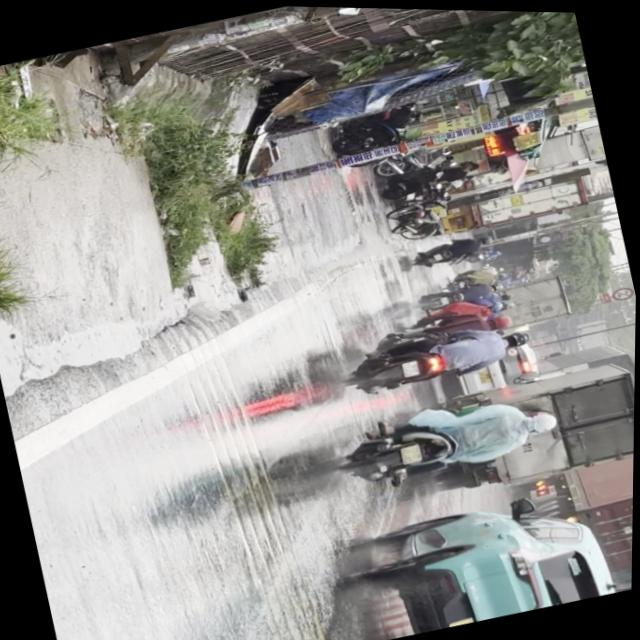helmet: (526, 407, 562, 434), (505, 327, 534, 348)
licenseplate: (332, 376, 569, 497), (339, 309, 540, 404)
nohelmet: (402, 442, 424, 463), (403, 359, 422, 376)
